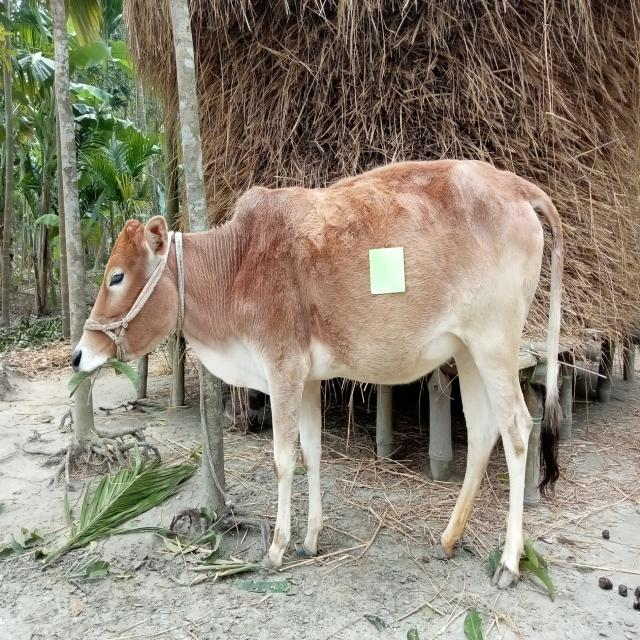badan_sapi: (268, 174, 517, 395)
sapi: (70, 158, 575, 592)
